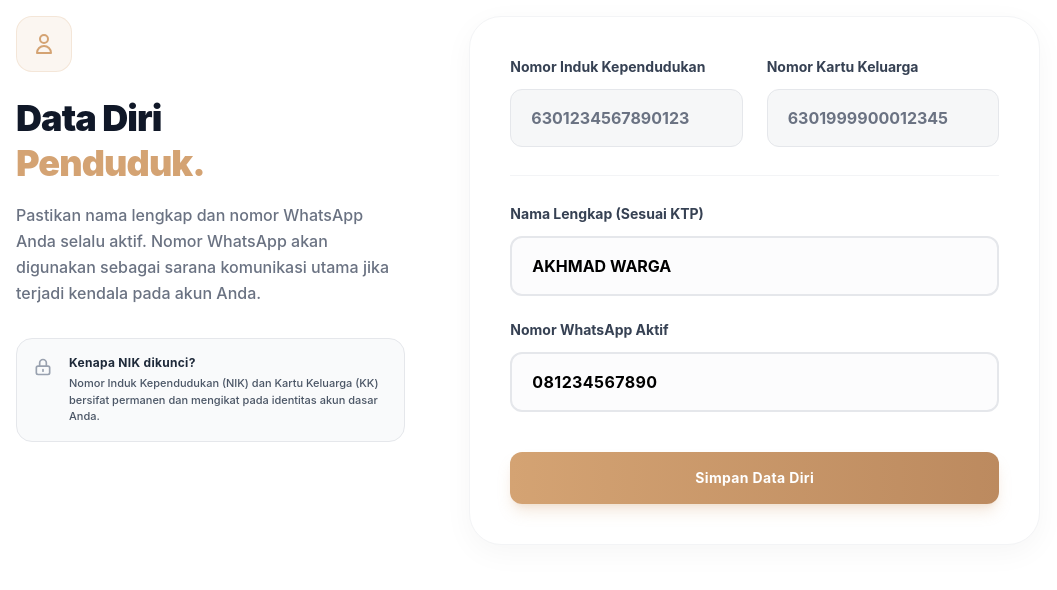
Scenario: Profile.vue - Professional QA Test Suite › Validasi Form › [VAL-01] Error jika nama kosong
Clear the field with placeholder "Masukkan nama lengkap" below "Nama Lengkap (Sesuai KTP)" at [755, 266], box [510, 236, 999, 296]
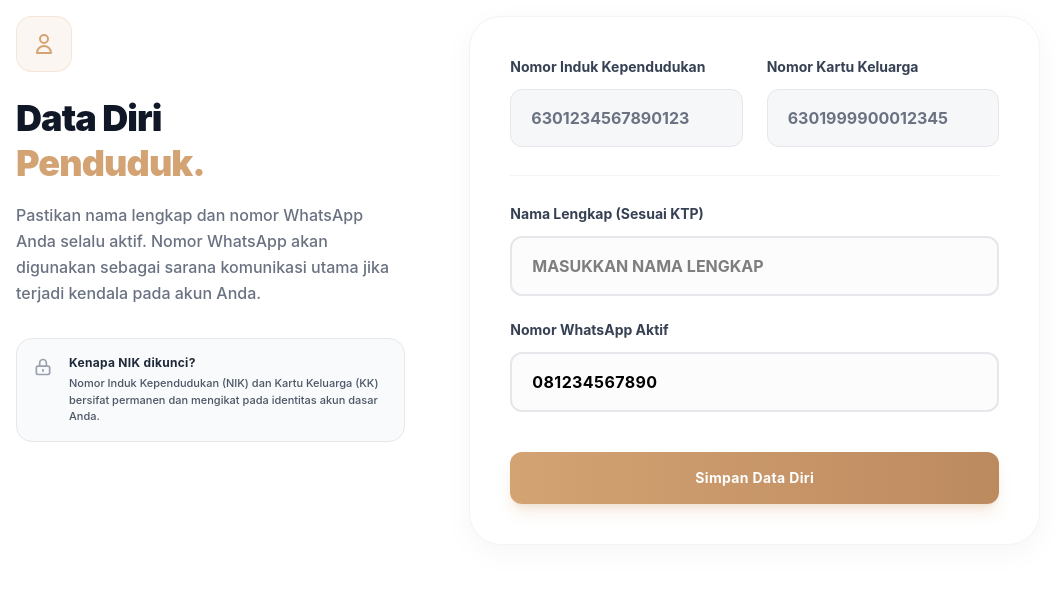
Submit the form, box [510, 57, 999, 504]
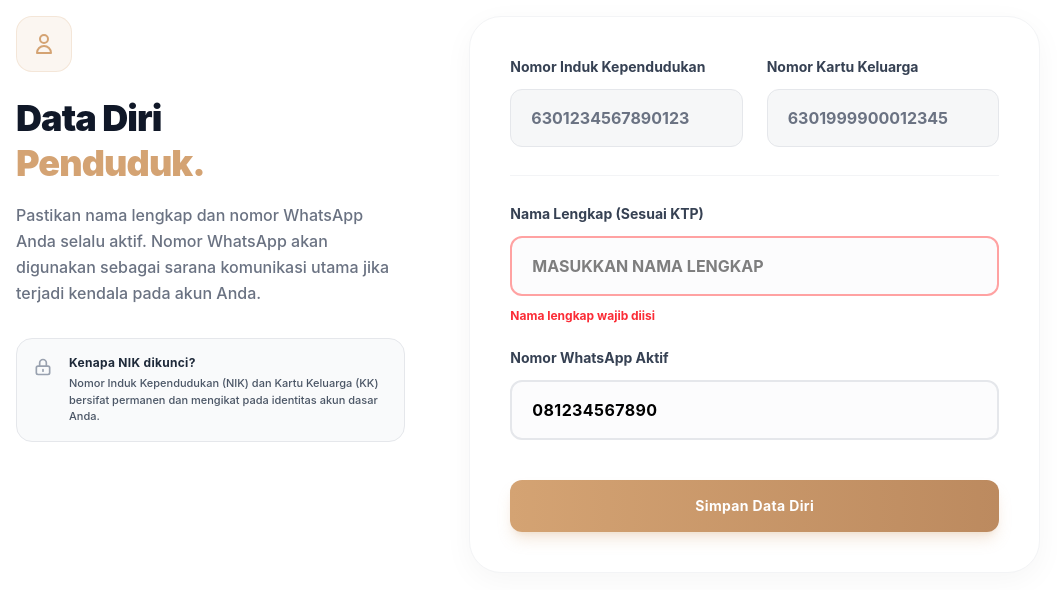
Expected: the text "Nama lengkap wajib diisi" is shown, [510, 308, 655, 323]
